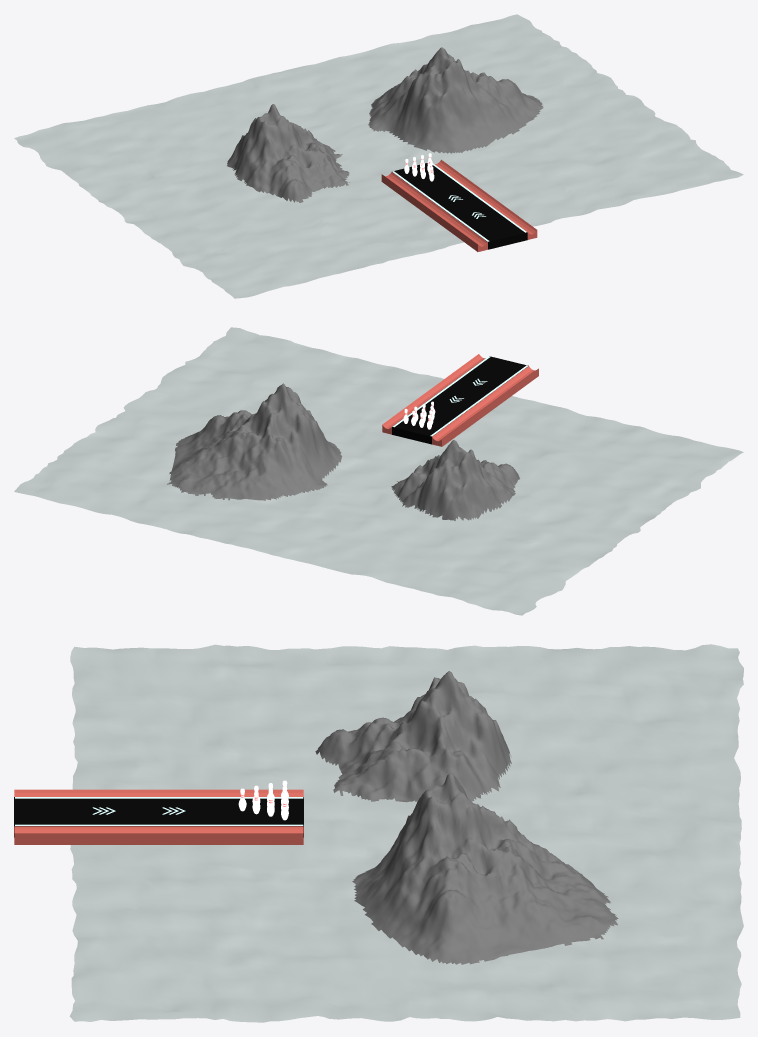
The model's file is BowlingSet.glb.
3 renders of one model, top to bottom at view 1: azimuth 30°, elevation 25°; view 2: azimuth 150°, elevation 25°; view 3: azimuth 270°, elevation 25°, orthographic. The views are drawn at different scales.
Parts seen in each view (by area): view 1: Plane, Landscape.005, Landscape.001, Cube.001, Cube.002, Cube; view 2: Plane, Landscape.005, Landscape.001, Cube.001, Cube.002, Cube; view 3: Plane, Landscape.005, Landscape.001, Cube.001, Cube, Cube.002.
Boxes of the visible parts, bbox=[...] form: Plane: bbox=[14, 14, 743, 298]; Landscape.005: bbox=[368, 47, 543, 153]; Landscape.001: bbox=[227, 104, 349, 202]; Cube.001: bbox=[392, 163, 527, 249]; Cube.002: bbox=[381, 172, 487, 251]; Cube: bbox=[434, 159, 537, 239]; Plane: bbox=[14, 327, 743, 615]; Landscape.005: bbox=[167, 383, 341, 500]; Landscape.001: bbox=[391, 440, 519, 520]; Cube.001: bbox=[392, 356, 528, 444]; Cube.002: bbox=[432, 366, 538, 446]; Cube: bbox=[382, 354, 485, 434]; Plane: bbox=[69, 644, 743, 1022]; Landscape.005: bbox=[352, 772, 618, 964]; Landscape.001: bbox=[315, 671, 511, 802]; Cube.001: bbox=[14, 797, 303, 837]; Cube: bbox=[14, 826, 303, 844]; Cube.002: bbox=[14, 789, 303, 796].
Bounding box in the file's own units: 140 × 20.95 × 114.
